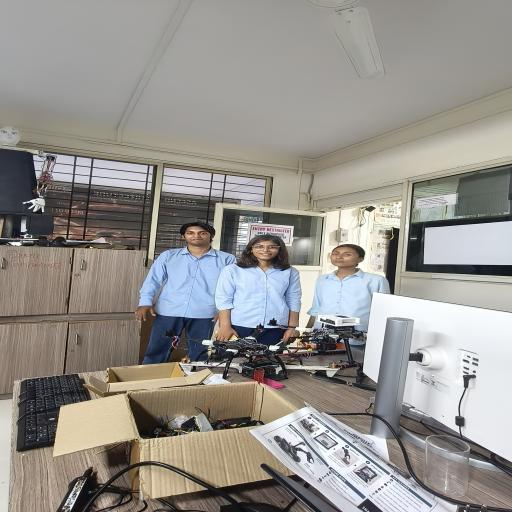survivor: (134, 222, 238, 365), (214, 234, 302, 352), (304, 244, 391, 332)
